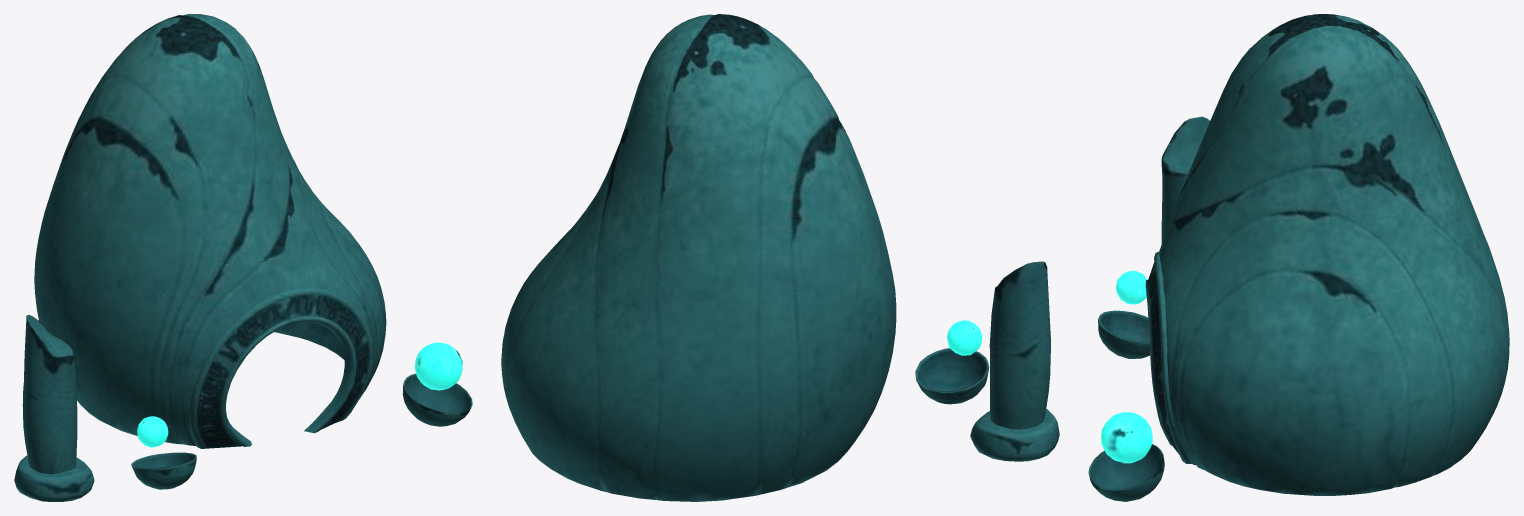
Rendered from sky_hut_a_soma_v35.glb.
3 views of the same model, side by side, from view 1: azimuth 30°, elevation 25°; view 2: azimuth 150°, elevation 25°; view 3: azimuth 270°, elevation 25° (orthographic). The views are drawn at different scales.
Parts seen in each view (by area): view 1: hut_a; view 2: hut_a; view 3: hut_a.
Boxes of the visible parts, box(x1,y1,x2,y2) form: hut_a: box(14, 14, 472, 501); hut_a: box(501, 14, 1059, 501); hut_a: box(1088, 14, 1509, 501).
Bounding box in the file's own units: 8.7 × 7.36 × 7.06.
1 material, 1 textured.
